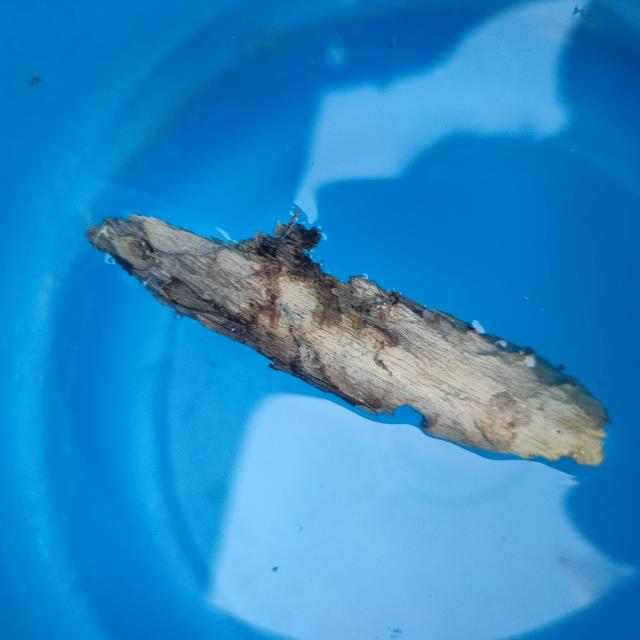wood: (85, 184, 616, 471)
